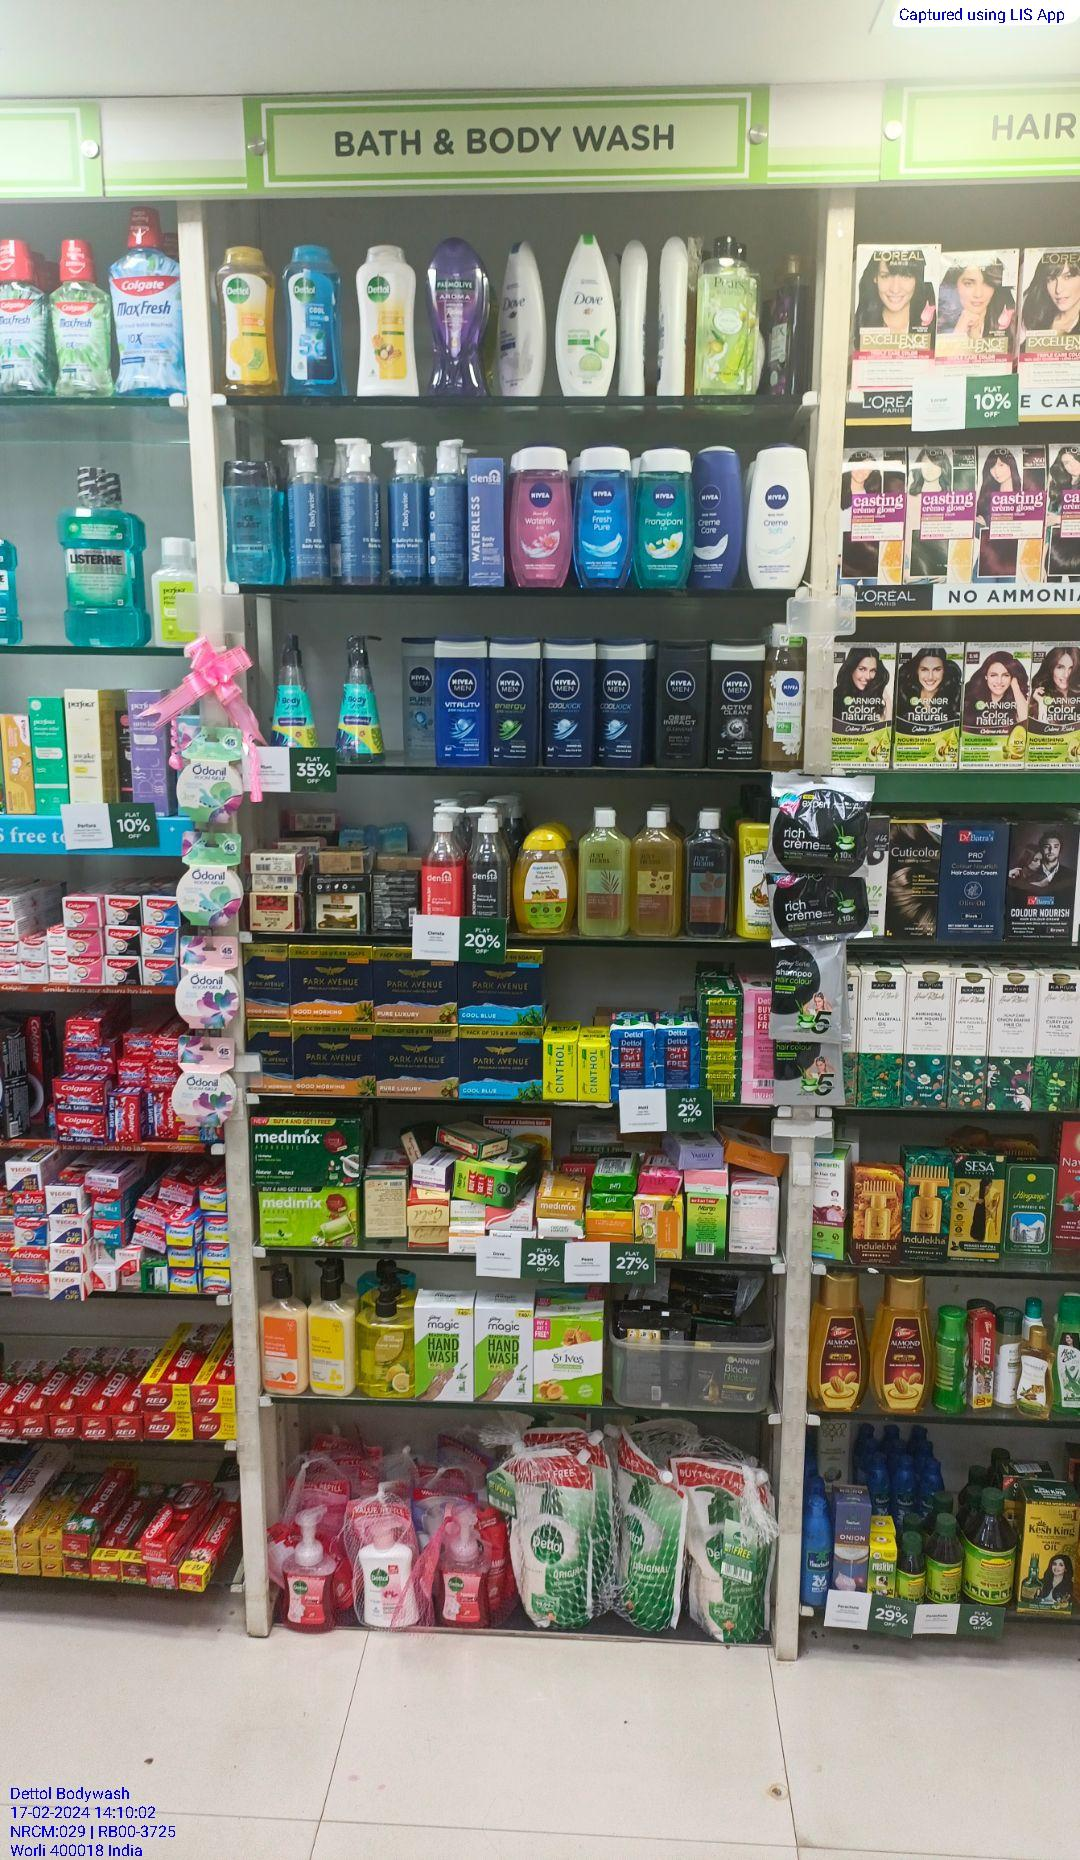Dettol_Bodywash_Cool: (279, 234, 342, 396)
Dettol_Bodywash_Refresh: (213, 249, 278, 397)
Dettol_Nourish_Body_Wash_250ML: (351, 234, 415, 396)
Dove_Refreshing_Body_Wash_250ML: (557, 233, 615, 397)
Nivea_Creme_Care_Body_Wash_250ML: (693, 449, 741, 589)
Nivea_Creme_Soft_Body_Wash_250ML: (750, 446, 810, 590)
Nivea_Shower_Gel_Frangipani_and_Oil_250ML: (639, 449, 689, 589)
Nivea_Shower_Gel_Waterlily_and_Oil_250ML: (510, 447, 570, 589)
Palmolive_Aroma_Relax_250ML: (427, 238, 483, 397)
Pears_Naturale_Aloe_Vera_Body_Wash_250ML: (697, 233, 752, 396)
